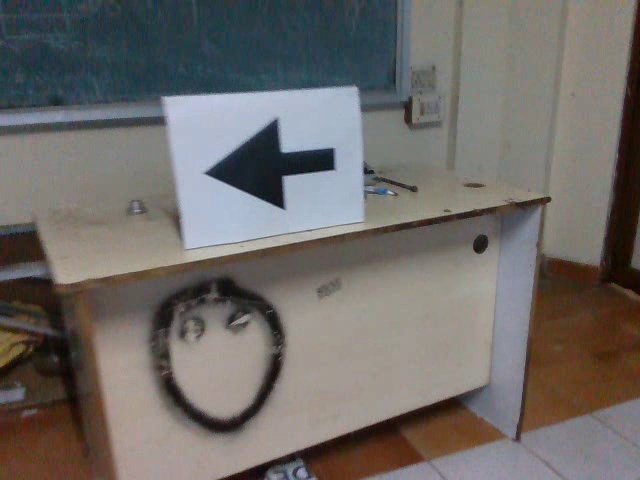Left: (195, 114, 339, 213)
